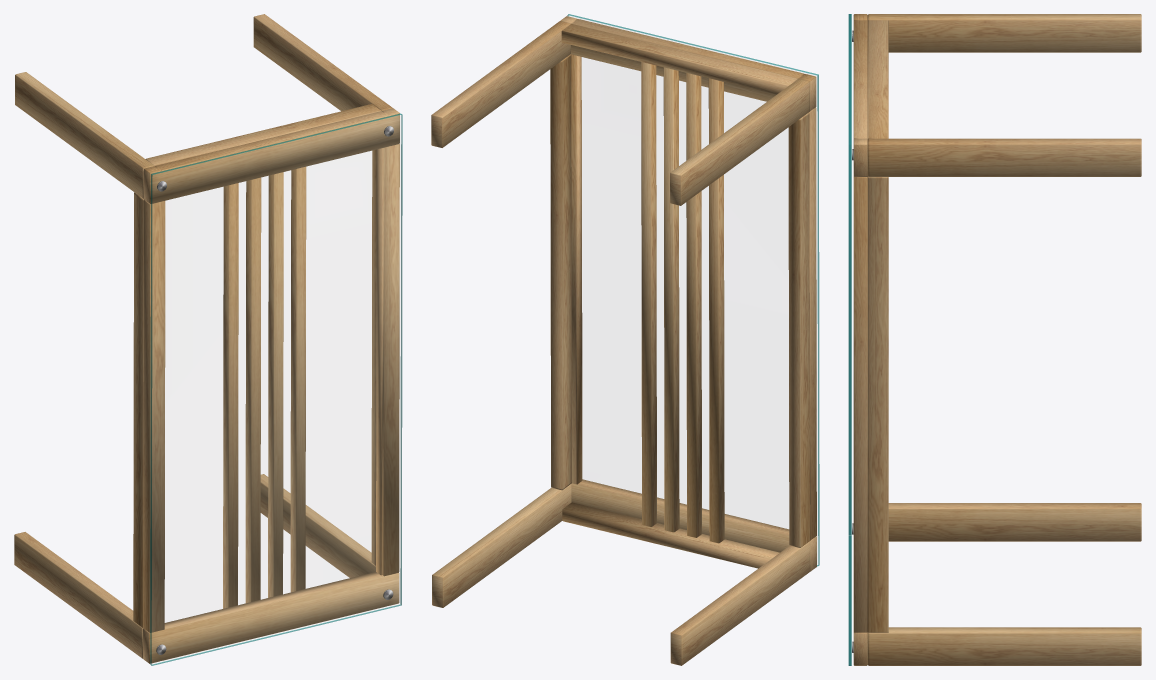
File: Dining Glass-Wood Table N151024.obj
3 views of the same model, side by side, from view 1: azimuth 30°, elevation 25°; view 2: azimuth 150°, elevation 25°; view 3: azimuth 270°, elevation 25° (orthographic). The views are drawn at different scales.
Parts seen in each view (by area): view 1: Leg011, bar022, bar042, bar012, bar032, side_bar021, bar062, bar082, bar072, bar052, Glass1, bar031 (+16 smaller); view 2: Leg011, side_bar021, bar051, bar061, bar081, bar071, side_bar011, bar04, side_bar031, bar021, bar031, bar01 (+9 smaller); view 3: Leg011, side_bar021, bar011, Leg01, Glass1, side_bar011, bar021, side_bar02, bar01, bar02, side_bar01.
Part boxes in pixels (x1,y1,x2,y2): Leg011: [14, 14, 391, 657]; bar022: [150, 113, 399, 203]; bar042: [150, 573, 398, 663]; bar012: [384, 144, 399, 576]; bar032: [150, 201, 165, 632]; side_bar021: [133, 149, 376, 627]; bar062: [274, 172, 283, 596]; bar082: [229, 183, 238, 607]; bar072: [251, 177, 260, 601]; bar052: [296, 166, 305, 590]; Glass1: [150, 113, 402, 665]; bar031: [143, 200, 149, 631]; Leg011: [431, 21, 809, 665]; side_bar021: [550, 54, 810, 547]; bar051: [641, 62, 656, 526]; bar061: [664, 67, 679, 532]; bar081: [709, 78, 724, 543]; bar071: [686, 73, 701, 537]; side_bar011: [561, 23, 796, 94]; bar04: [571, 479, 816, 571]; side_bar031: [562, 502, 779, 568]; bar021: [561, 16, 816, 110]; bar031: [810, 108, 816, 539]; bar01: [571, 54, 582, 484]; Leg011: [870, 14, 1139, 665]; side_bar021: [868, 177, 887, 632]; bar011: [854, 178, 866, 632]; Leg01: [867, 14, 1141, 665]; Glass1: [848, 14, 851, 665]; side_bar011: [868, 20, 887, 137]; bar021: [854, 14, 866, 176]; side_bar02: [867, 176, 888, 632]; bar01: [853, 177, 867, 632]; bar02: [853, 14, 867, 176]; side_bar01: [867, 20, 888, 138].
Bounding box in the file's own units: 0.8025 × 1.5 × 0.764.
Materials: 4 (2 with a texture image).
